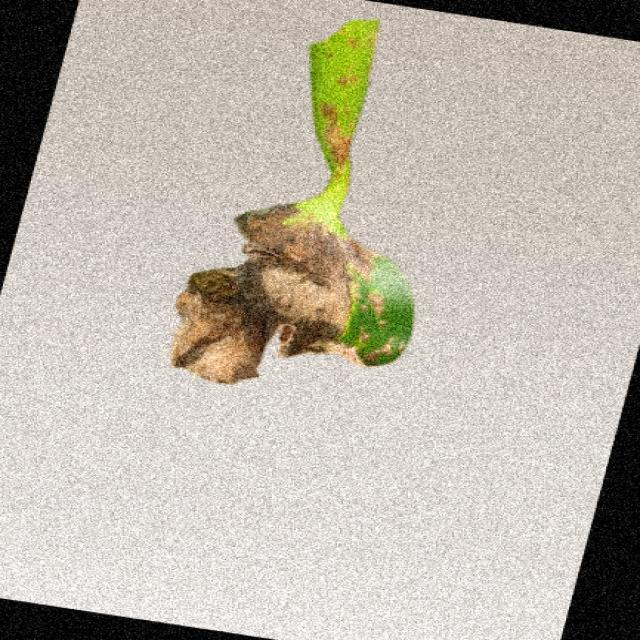daun berpenyakit karat: (170, 20, 413, 383)
